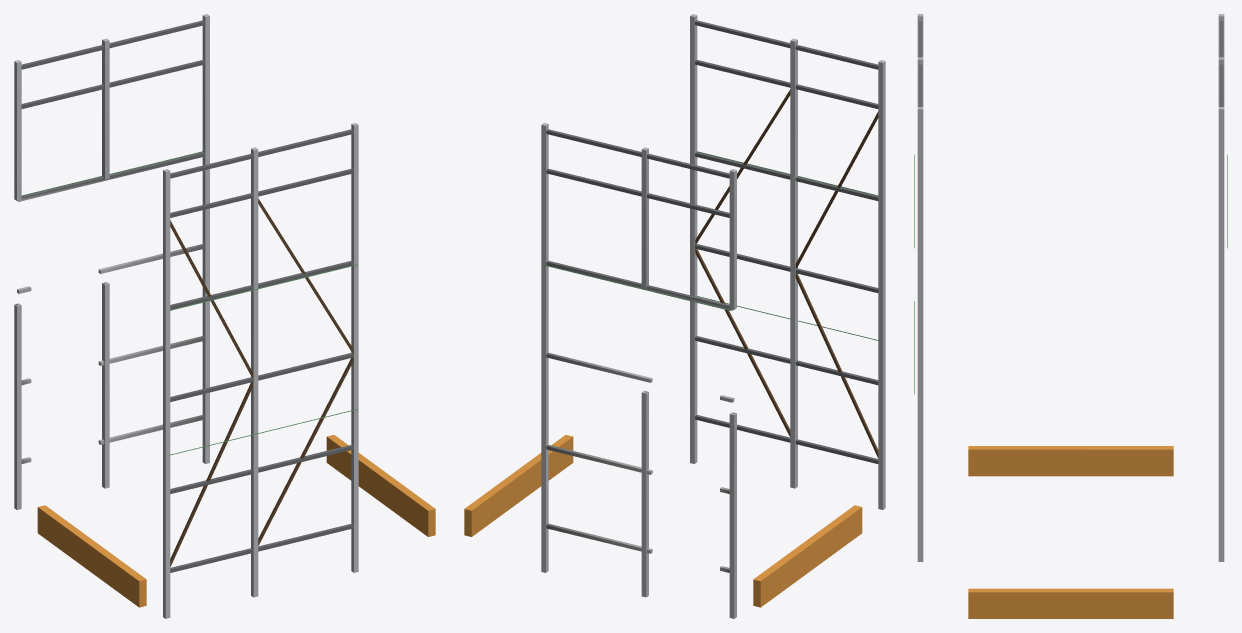
Rendered from 04_scaffold.glb.
The picture shows the model from 3 angles, left to right: view 1: azimuth 30°, elevation 25°; view 2: azimuth 150°, elevation 25°; view 3: azimuth 270°, elevation 25°; orthographic projection.
Parts seen in each view (by area): view 1: scaffold_scaffoldtube, scaffold_hazard_nocol, scaffold_steelrust_nocol, scaffold_safetynet_nocol; view 2: scaffold_scaffoldtube, scaffold_hazard_nocol, scaffold_steelrust_nocol, scaffold_safetynet_nocol; view 3: scaffold_hazard_nocol, scaffold_scaffoldtube.
Part boxes in pixels (x1=…): scaffold_scaffoldtube: x1=14, y1=14, x2=358, y2=618; scaffold_hazard_nocol: x1=37, y1=435, x2=435, y2=607; scaffold_steelrust_nocol: x1=16, y1=198, x2=353, y2=566; scaffold_safetynet_nocol: x1=21, y1=151, x2=357, y2=455; scaffold_scaffoldtube: x1=541, y1=14, x2=885, y2=618; scaffold_hazard_nocol: x1=464, y1=435, x2=862, y2=607; scaffold_steelrust_nocol: x1=645, y1=89, x2=878, y2=457; scaffold_safetynet_nocol: x1=542, y1=151, x2=878, y2=340; scaffold_hazard_nocol: x1=968, y1=446, x2=1173, y2=618; scaffold_scaffoldtube: x1=917, y1=14, x2=1224, y2=561.
Size of the model in its own units: 47.2 by 69 by 42.68.
